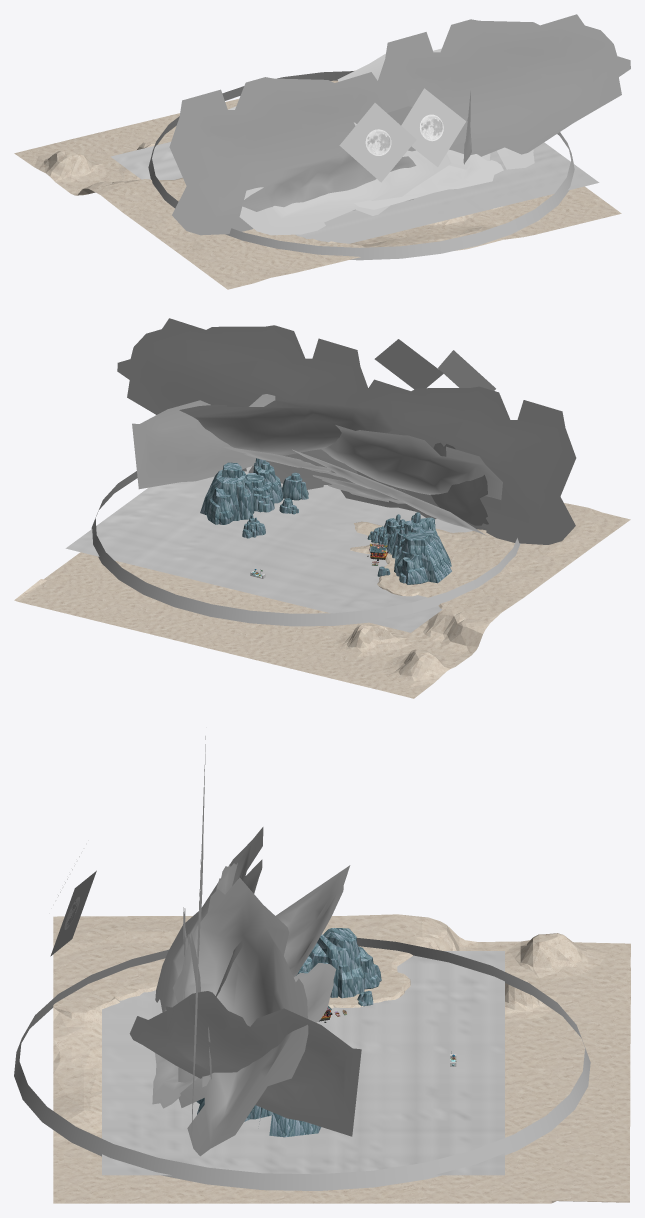
Rendered from RootObject.fbx.
3 renders of one model, top to bottom at view 1: azimuth 30°, elevation 25°; view 2: azimuth 150°, elevation 25°; view 3: azimuth 270°, elevation 25°, orthographic. The views are drawn at different scales.
Parts seen in each view (by area): view 1: LobbyCloud11 (1) (×2), LobbyCloud11 (×2), Ground000, wave001 (1), LobbyCloud12 (×2), Sky_Inner, Moonshaft (×2), Moon (×2); view 2: Ground000, wave001 (1), LobbyCloud11 (×2), LobbyCloud11 (1) (×2), LobbyCloud02 (×2), Sky_Inner, LobbyGround_02, LobbyGround_04, Moonshaft (×2), LobbyCloud05 (×2), LobbyCloud06 (×2), LobbyGround_06; view 3: Ground000, wave001 (1), LobbyCloud02 (×2), LobbyCloud11, Sky_Inner, LobbyGround_02, LobbyCloud11 (1), LobbyCloud05, LobbyCloud12, LobbyGround_04, Moonshaft.
Boxes of the visible parts, <box> form: LobbyCloud11 (1) (×2): <box>239,14,630,235</box>; LobbyCloud11 (×2): <box>169,48,534,235</box>; Ground000: <box>14,70,621,289</box>; wave001 (1): <box>111,142,599,243</box>; LobbyCloud12 (×2): <box>241,146,503,211</box>; Sky_Inner: <box>148,71,574,260</box>; Moonshaft (×2): <box>339,88,465,182</box>; Moon (×2): <box>365,114,443,155</box>; Ground000: <box>14,503,630,698</box>; wave001 (1): <box>65,466,472,632</box>; LobbyCloud11 (×2): <box>179,379,576,544</box>; LobbyCloud11 (1) (×2): <box>117,318,502,499</box>; LobbyCloud02 (×2): <box>132,394,486,535</box>; Sky_Inner: <box>91,471,520,626</box>; LobbyGround_02: <box>367,512,451,584</box>; LobbyGround_04: <box>200,458,283,524</box>; Moonshaft (×2): <box>374,339,495,390</box>; LobbyCloud05 (×2): <box>220,442,488,525</box>; LobbyCloud06 (×2): <box>248,449,404,503</box>; LobbyGround_06: <box>281,472,308,500</box>; Ground000: <box>53,914,630,1203</box>; wave001 (1): <box>102,951,504,1175</box>; LobbyCloud02 (×2): <box>129,865,361,1136</box>; LobbyCloud11: <box>173,877,308,1156</box>; Sky_Inner: <box>14,938,590,1190</box>; LobbyGround_02: <box>296,928,381,998</box>; LobbyCloud11 (1): <box>155,827,263,1011</box>; LobbyCloud05: <box>294,963,336,1022</box>; LobbyCloud12: <box>152,1010,210,1108</box>; LobbyGround_04: <box>197,1098,321,1137</box>; Moonshaft: <box>50,870,96,956</box>.
Size of the model in its own units: 463 by 173 by 401.
Materials: 42 (26 with a texture image).
